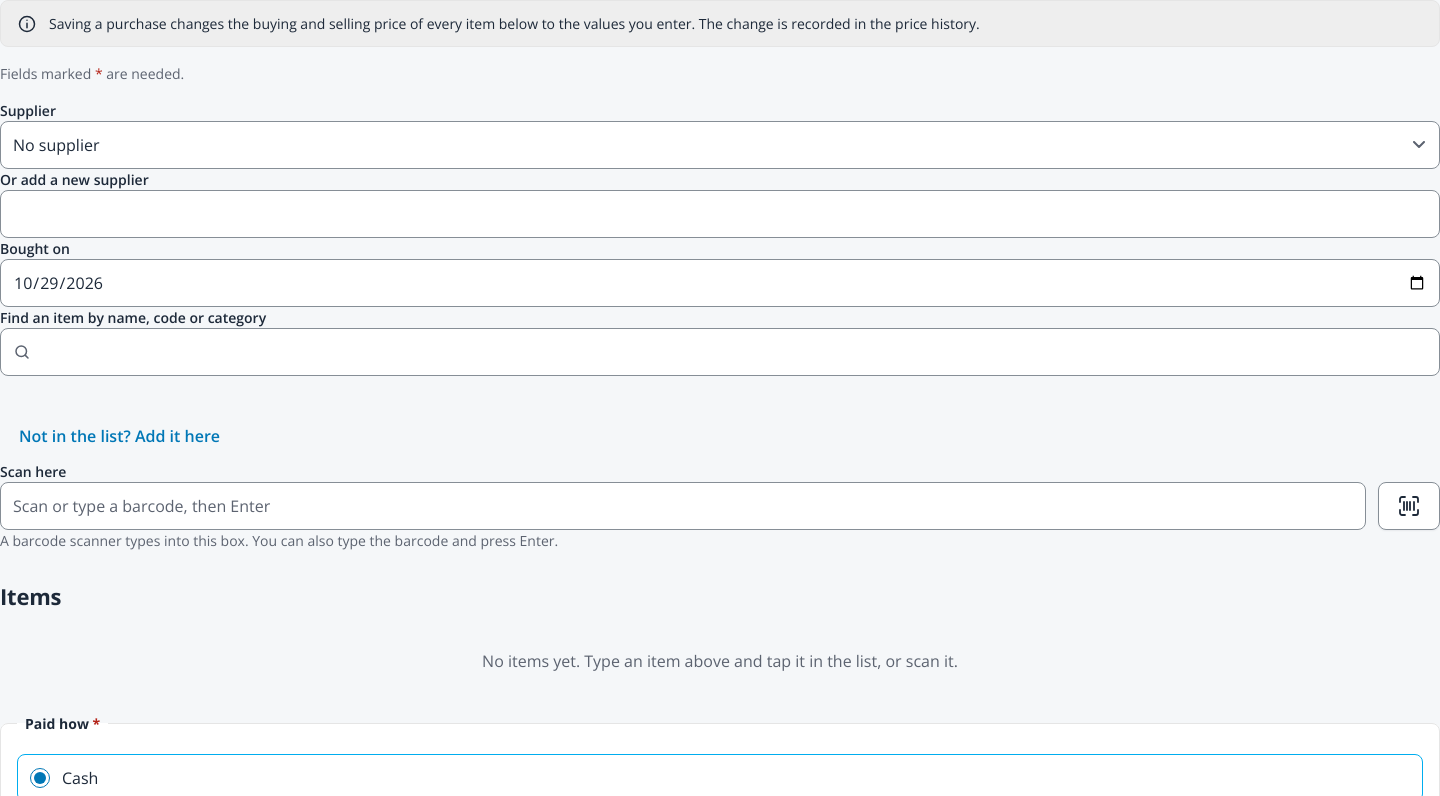
Test: Buy stock: add an item that is not in the list › shows the fields in the AppSheet order, the code as text made by the app and the category taking the cursor
This screenshot has width=1440, height=796.
Click the button "Not in the list? Add it here" at [120, 437], box [0, 413, 239, 461]
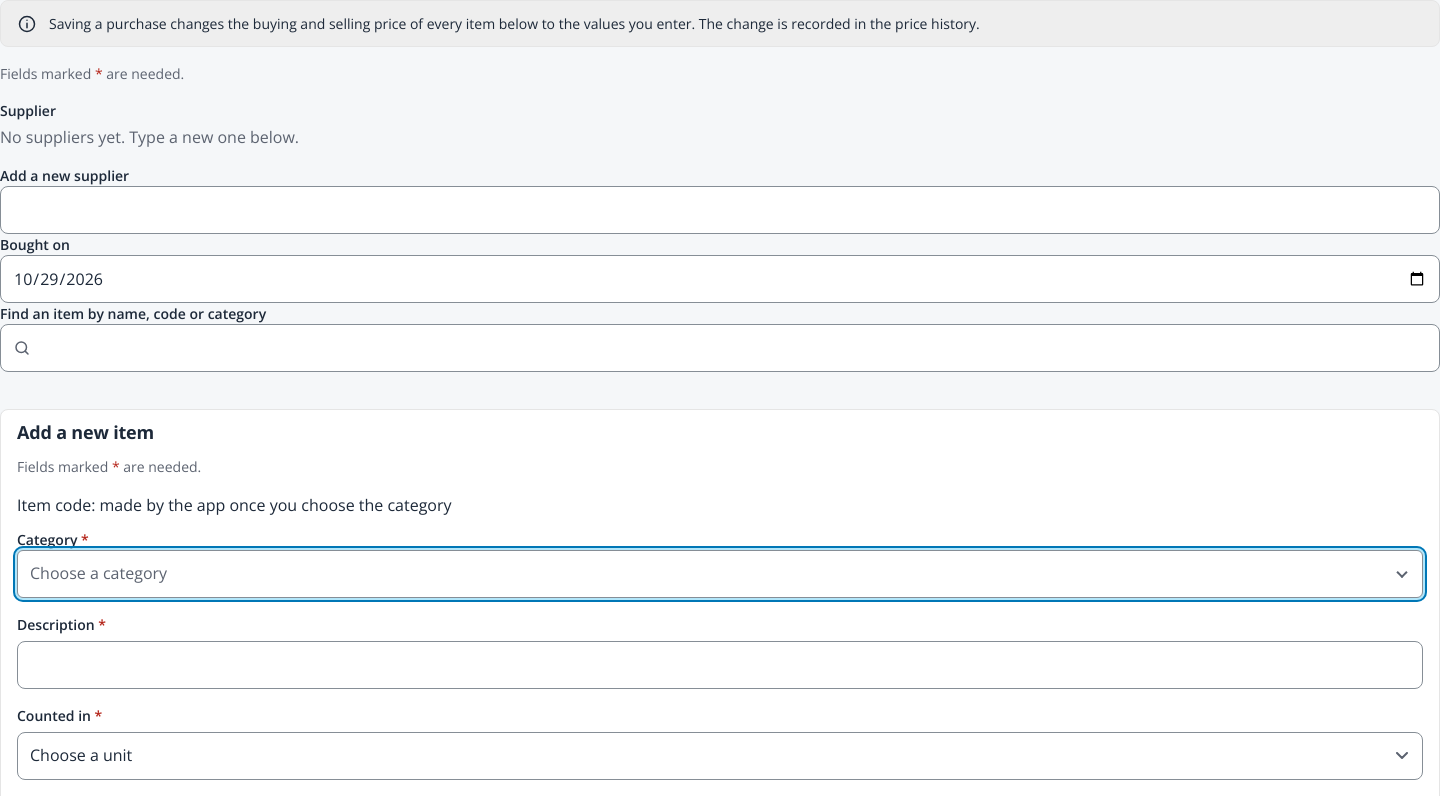
Expected: the text with test id "restock-new-code" reads "Item code: made by the app once you choose the category", [17, 494, 452, 516]
Click the dropdown labelled "Choose a category" at [99, 573], box [17, 550, 1423, 598]
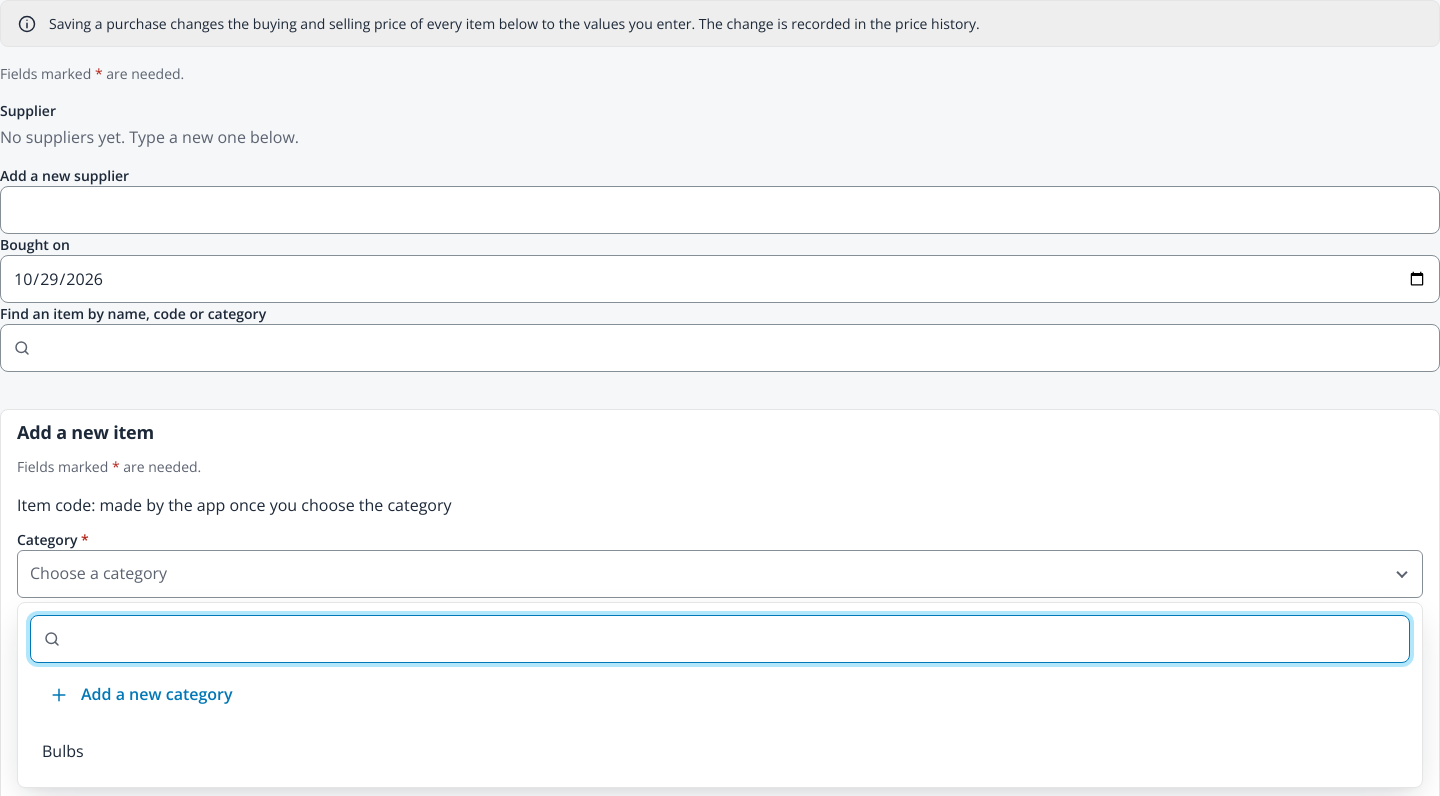
Click the option "Bulbs" at [63, 751], box [42, 740, 84, 762]
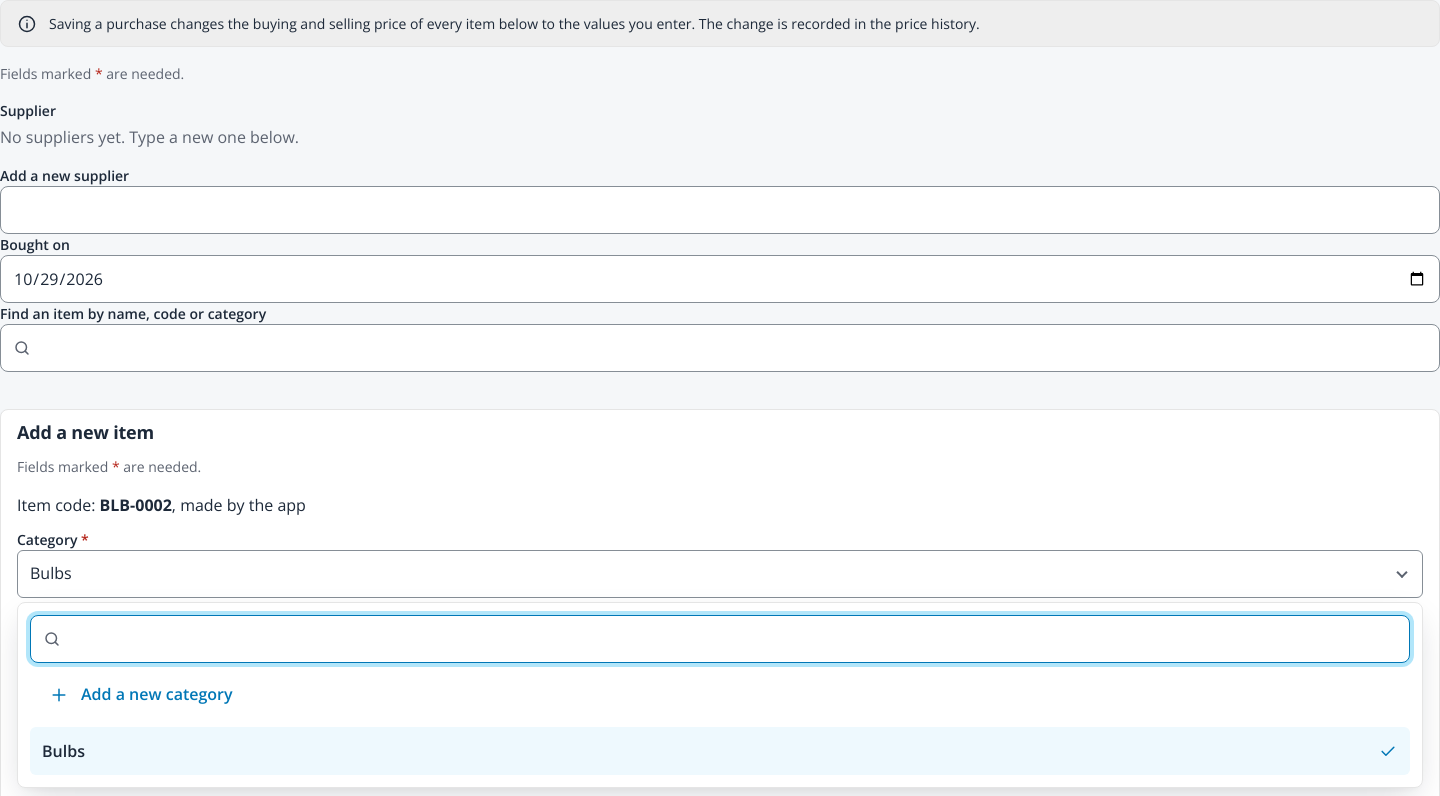
Expected: the element with test id "restock-new-code" reads "Item code: BLB-0002, made by the app", [17, 494, 306, 516]
